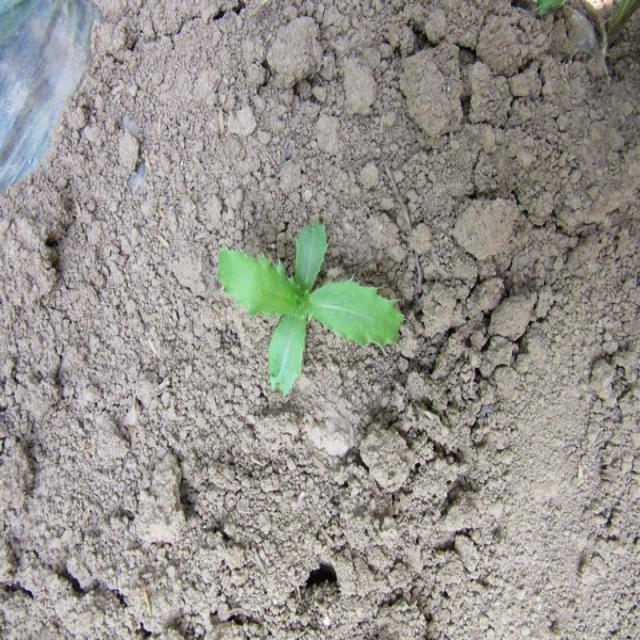field_thistle: (188, 210, 418, 396)
